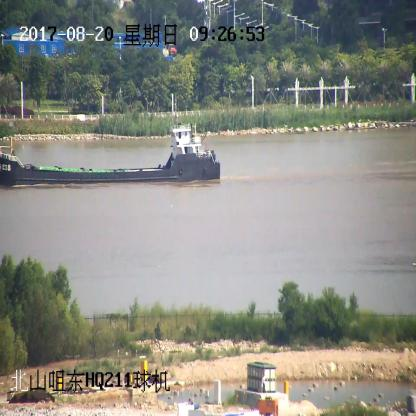Bulk Carrier: (0, 122, 222, 186)
